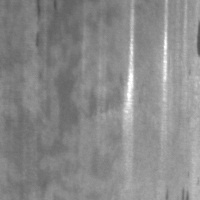scratches: (119, 3, 139, 148), (158, 2, 172, 112)
